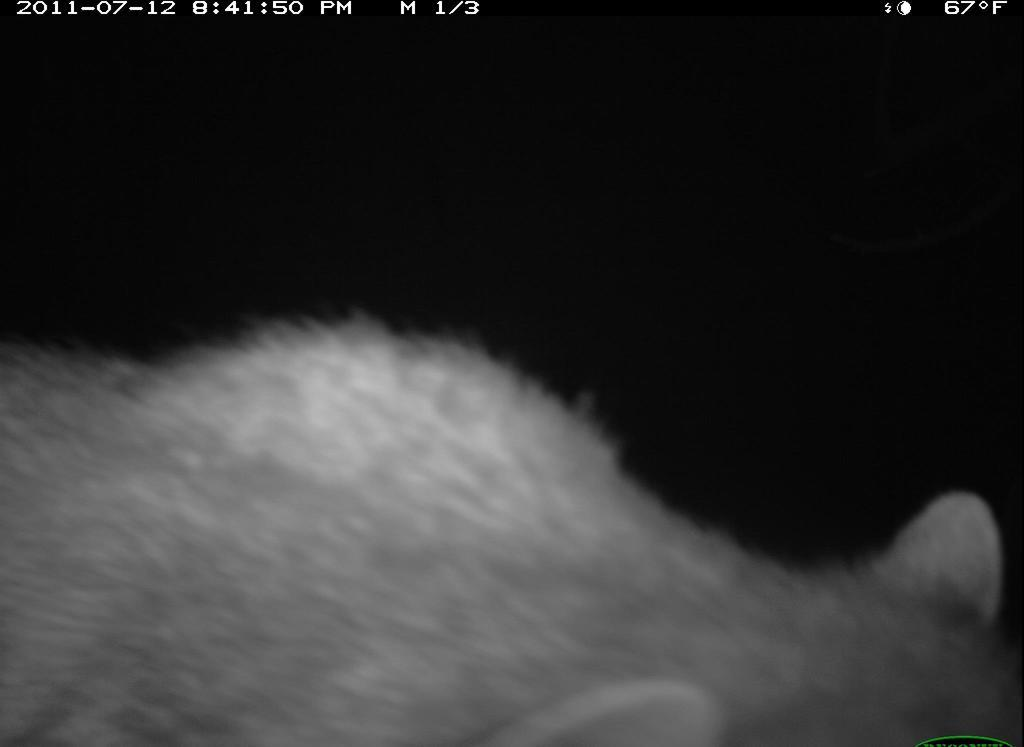raccoon: (4, 310, 1022, 747)
